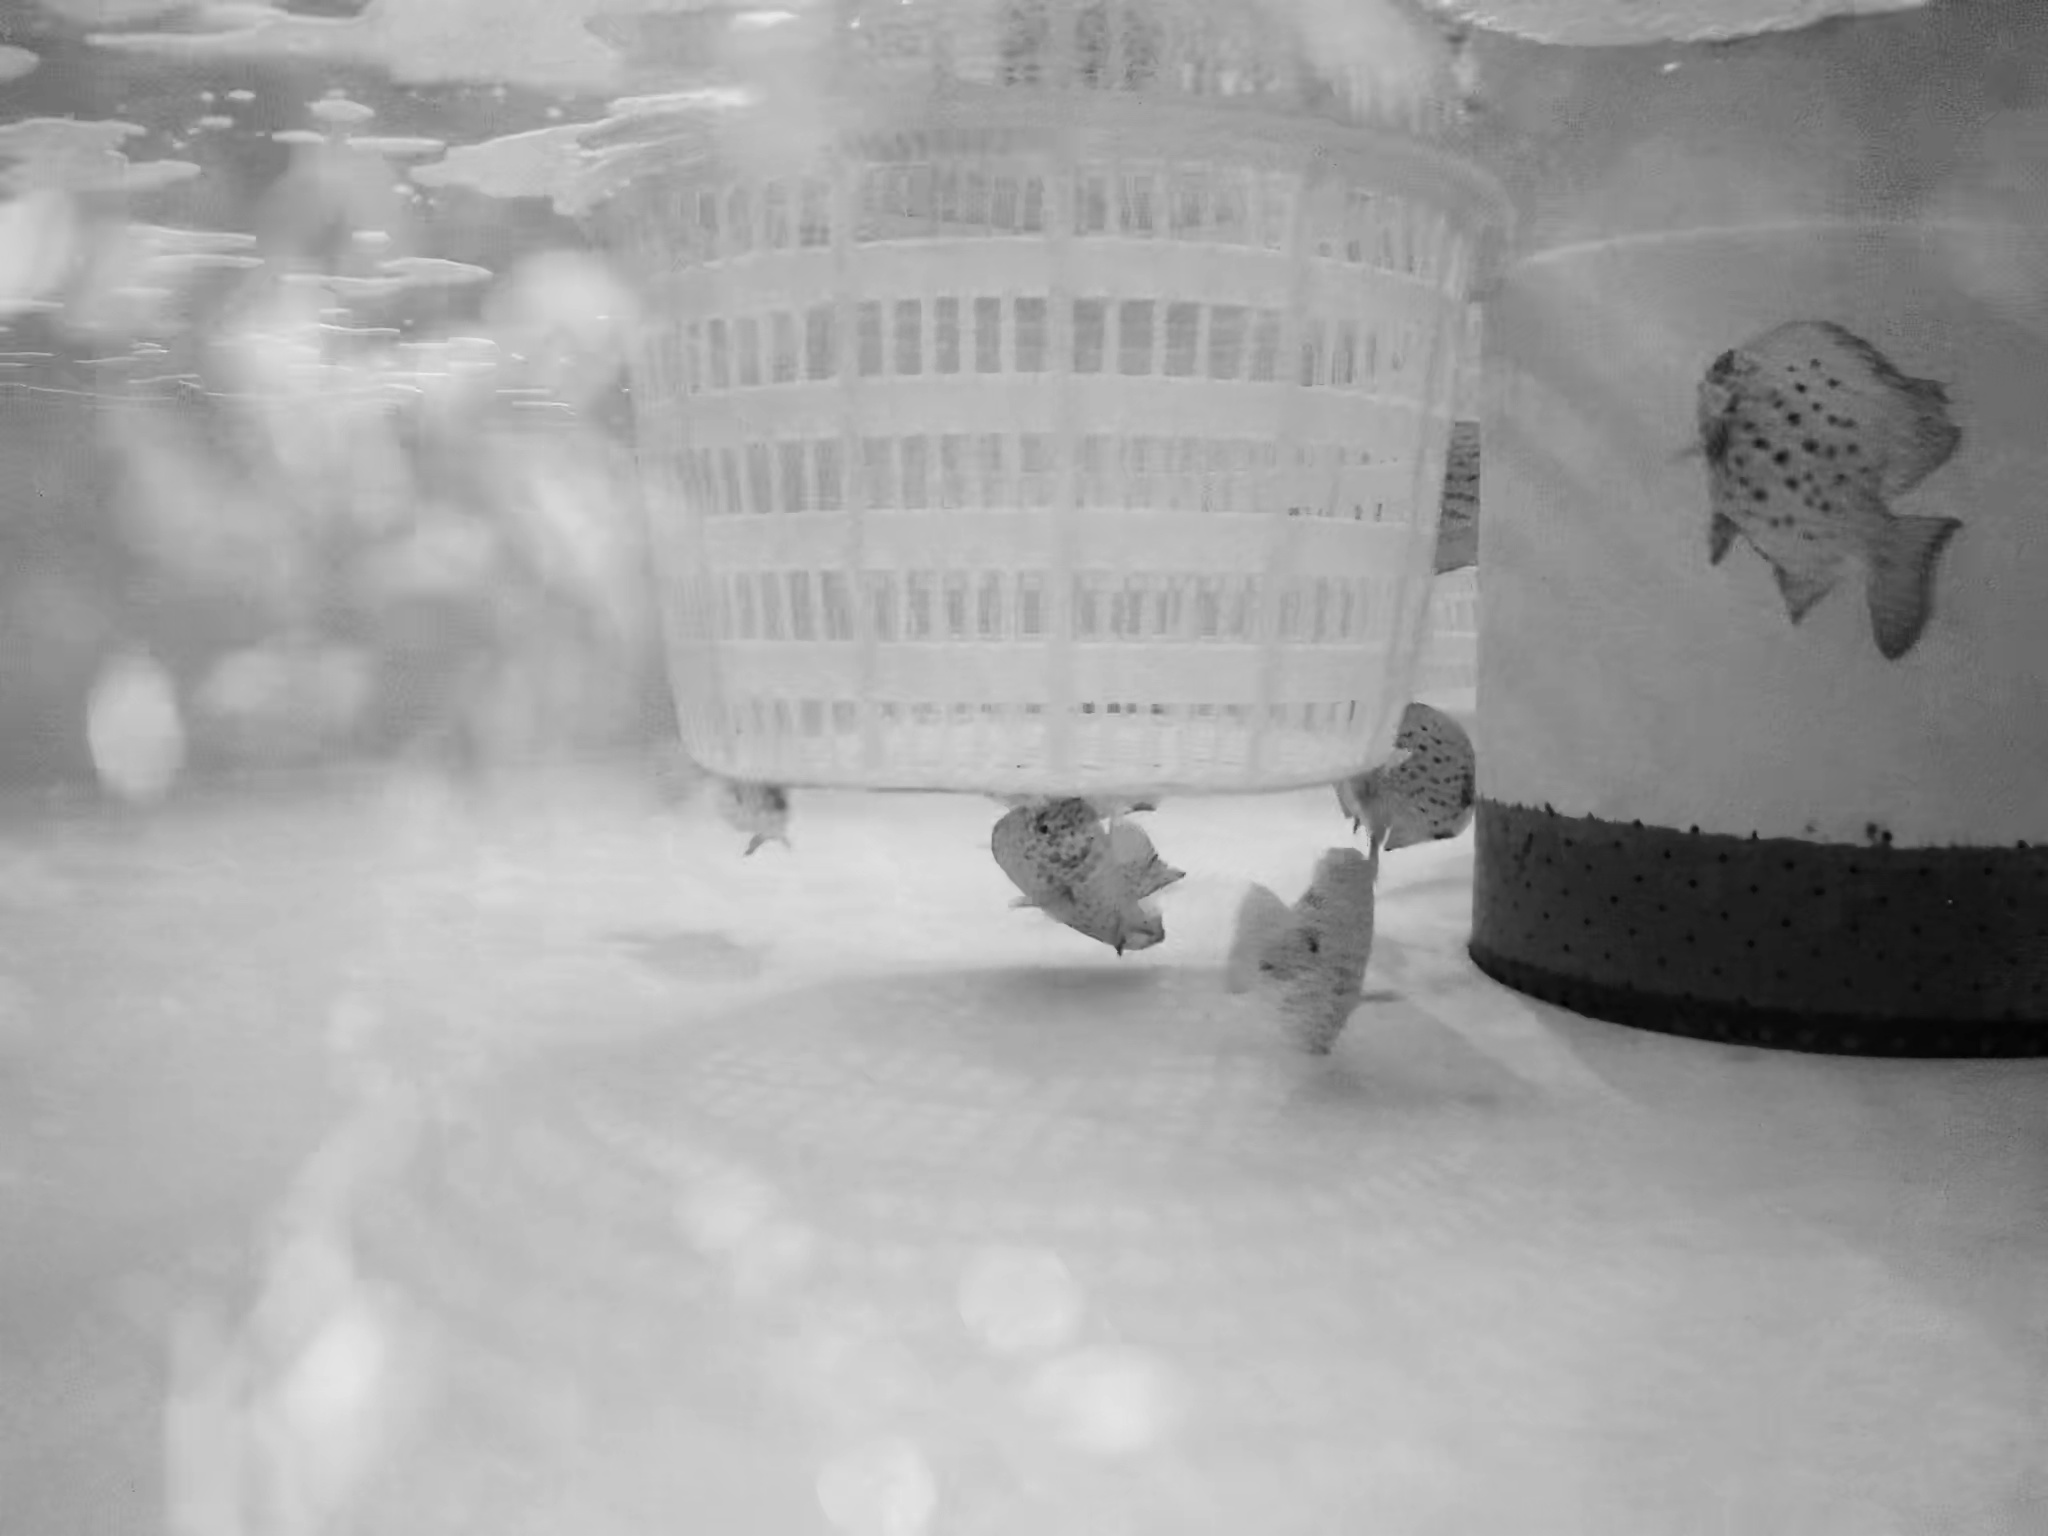fish: (1685, 311, 1971, 660), (1234, 844, 1388, 1062), (992, 807, 1190, 955), (1330, 405, 1492, 581), (647, 720, 798, 863), (1347, 697, 1487, 836)
